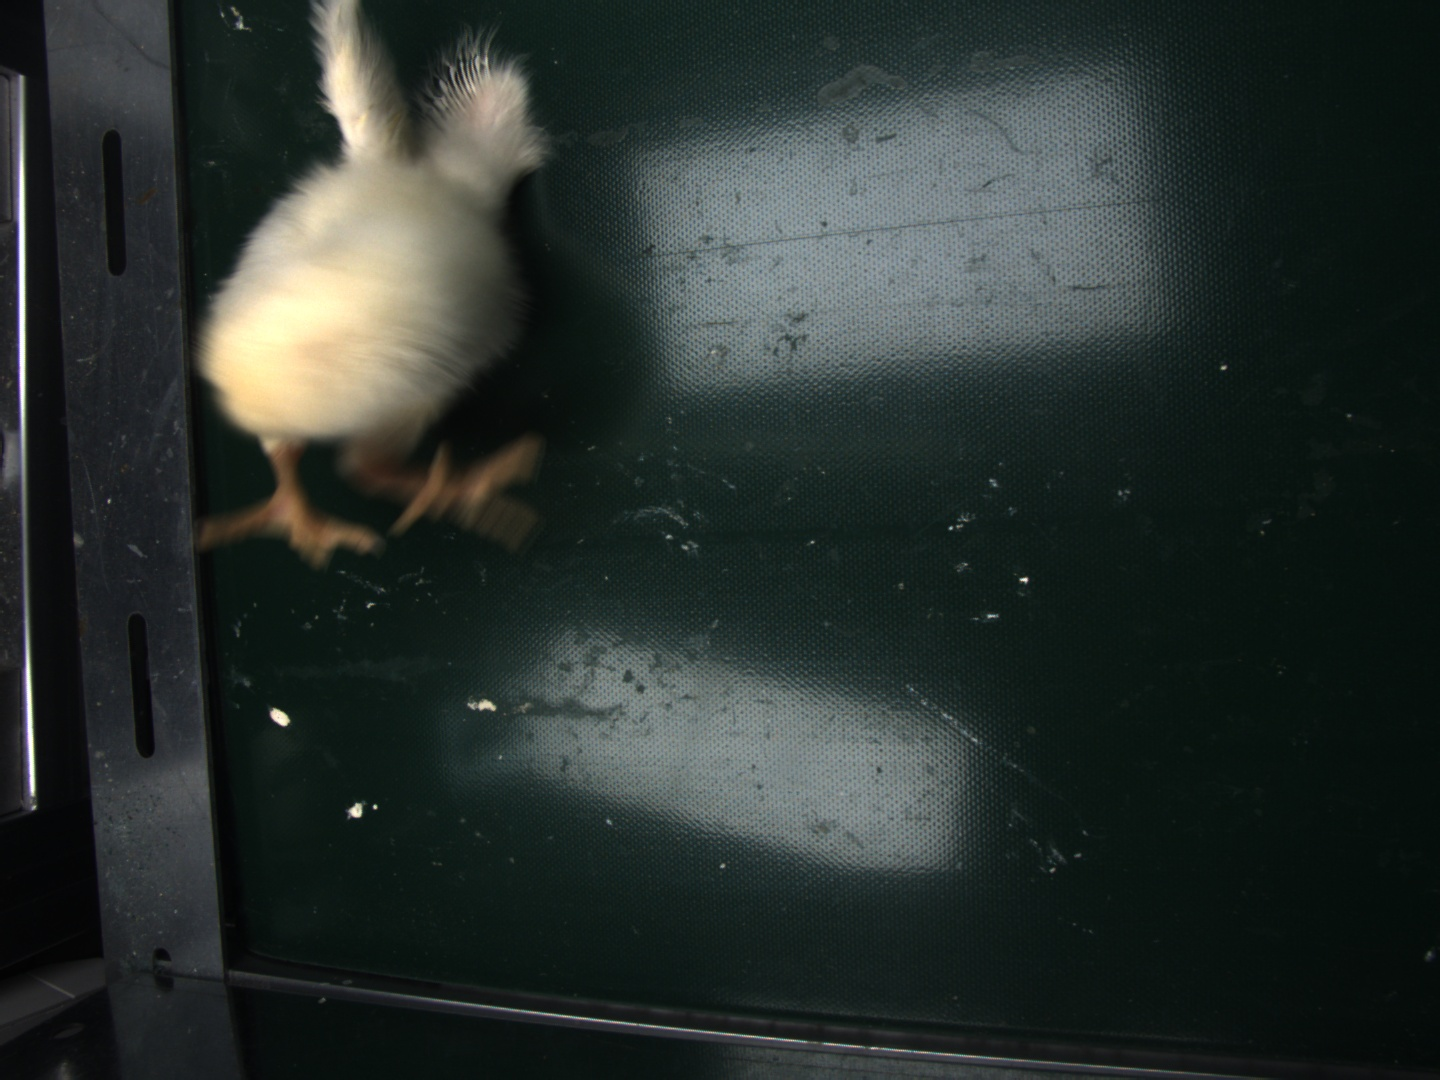male: (427, 48, 494, 124)
